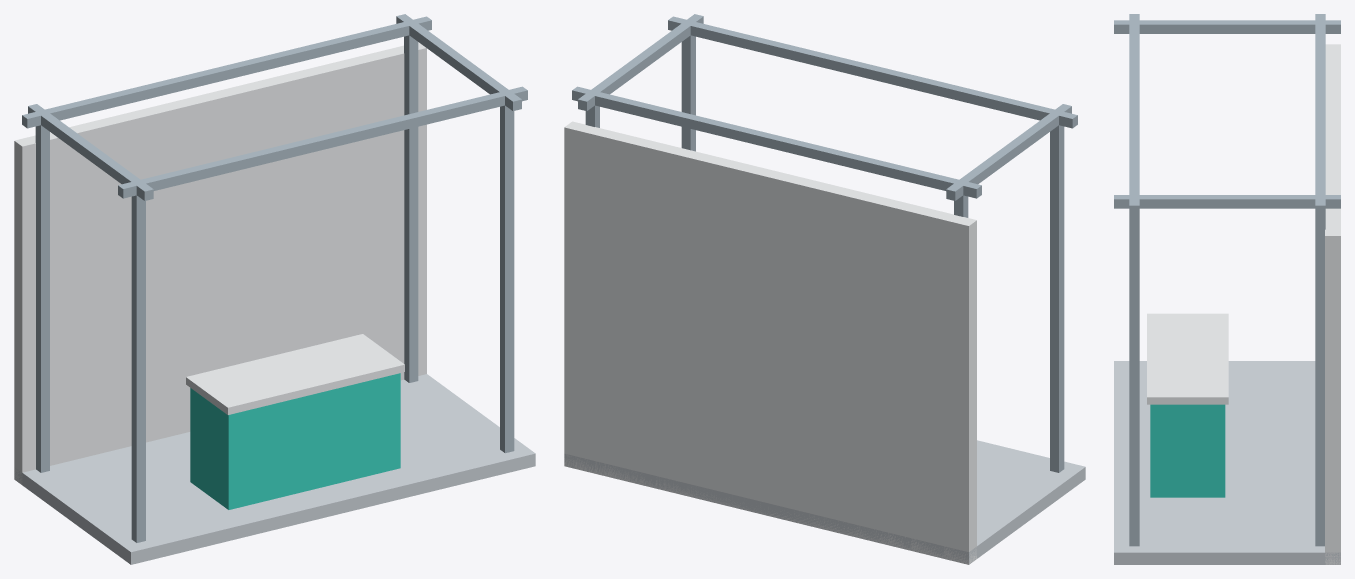
3 renders of one model, left to right at view 1: azimuth 30°, elevation 25°; view 2: azimuth 150°, elevation 25°; view 3: azimuth 270°, elevation 25°, orthographic. The views are drawn at different scales.
Parts seen in each view (by area): view 1: Exhibition Booth Concept; view 2: Exhibition Booth Concept; view 3: Exhibition Booth Concept.
Part boxes in pixels (x1,y1,x2,y2): Exhibition Booth Concept: [14, 14, 535, 564]; Exhibition Booth Concept: [564, 14, 1085, 564]; Exhibition Booth Concept: [1114, 14, 1340, 564].
Size of the model in its own units: 4 by 3.49 by 2.
